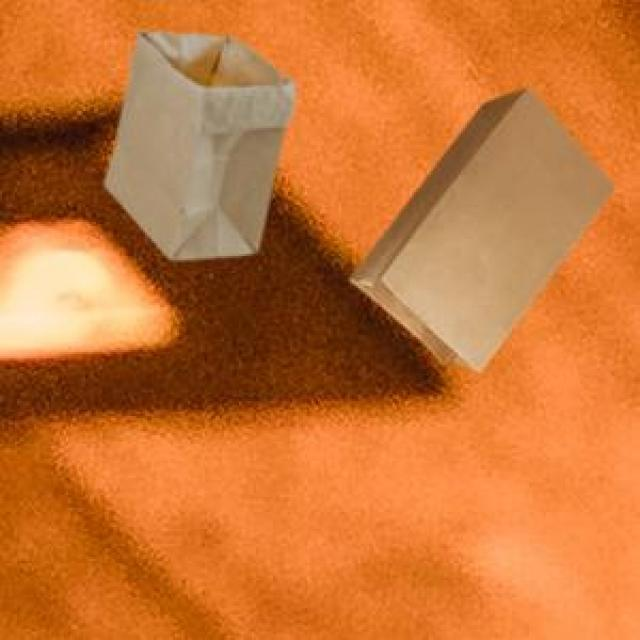Paper -Biodegradable-: (345, 88, 612, 367), (102, 36, 295, 256)
